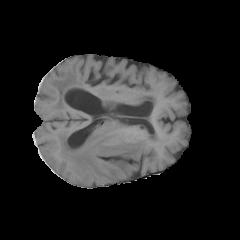glioma: (54, 123, 169, 180)
